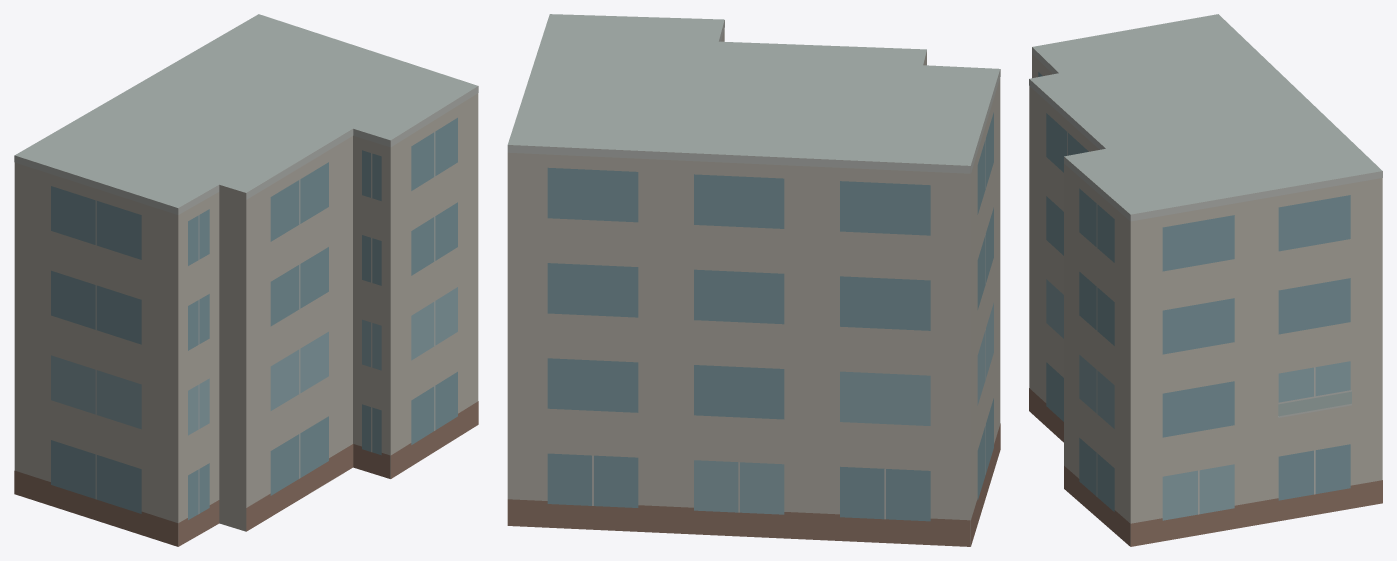
The model's file is survey-upis-32861282.glb.
3 views of the same model, side by side, from view 1: azimuth 30°, elevation 25°; view 2: azimuth 150°, elevation 25°; view 3: azimuth 270°, elevation 25° (orthographic). The views are drawn at different scales.
Visible parts, largest first — view 1: survey-upis-32861282.tmp; view 2: survey-upis-32861282.tmp; view 3: survey-upis-32861282.tmp.
Boxes of the visible parts, x1=… form: survey-upis-32861282.tmp: x1=14, y1=14, x2=478, y2=546; survey-upis-32861282.tmp: x1=507, y1=14, x2=1000, y2=546; survey-upis-32861282.tmp: x1=1029, y1=14, x2=1382, y2=546.
Bounding box in the file's own units: 15.29 × 11.8 × 11.39.
